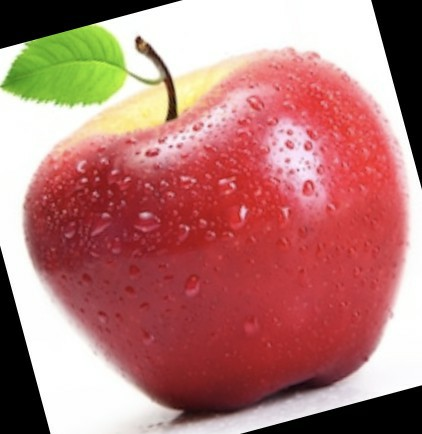fresh_apple: (33, 47, 408, 407)
